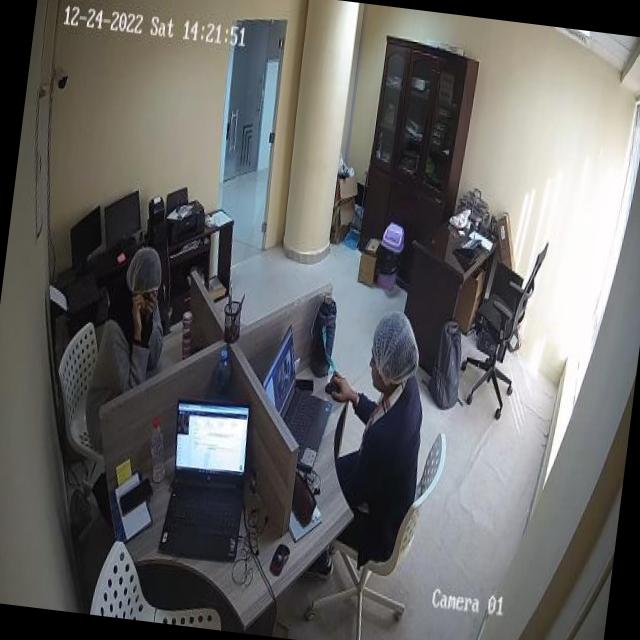hairnet: (368, 310, 421, 384), (124, 246, 164, 292)
